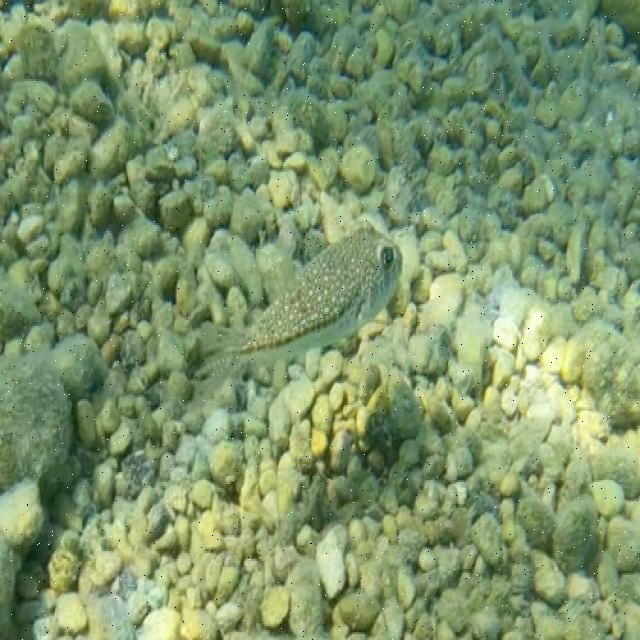Balik: (199, 226, 401, 385)
